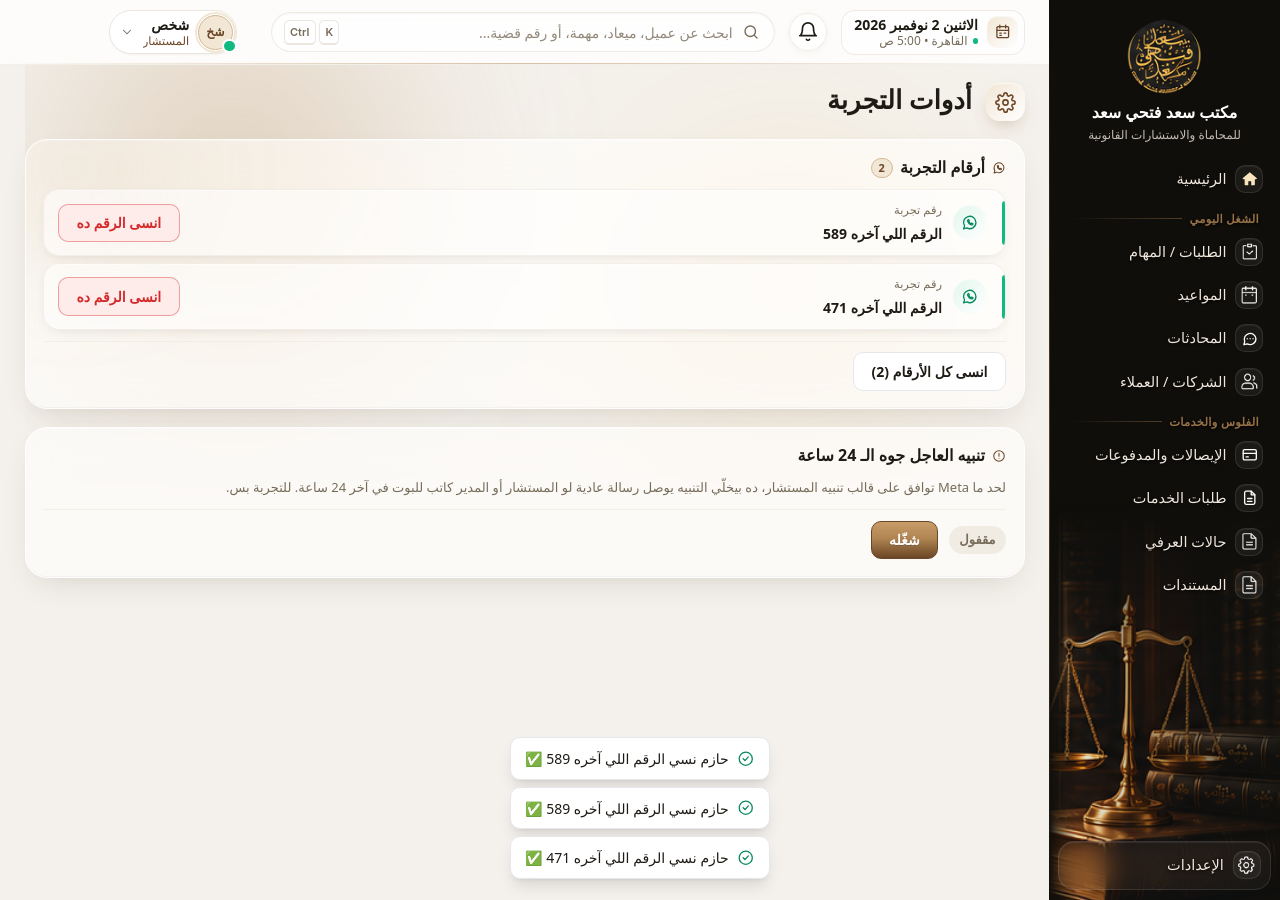
Test: أدوات التجربة › v1.34: the urgent alert inside the 24-hour window is switched on after asking, and says it is for testing
Check: the heading "تنبيه العاجل جوه الـ 24 ساعة" is shown, box x1=798 y1=444 x2=1006 y2=466
Check: the text "مقفول" is shown, box x1=949 y1=526 x2=1006 y2=554
Step 1. Click the button "شغّله" → (904,540), box x1=871 y1=521 x2=938 y2=559
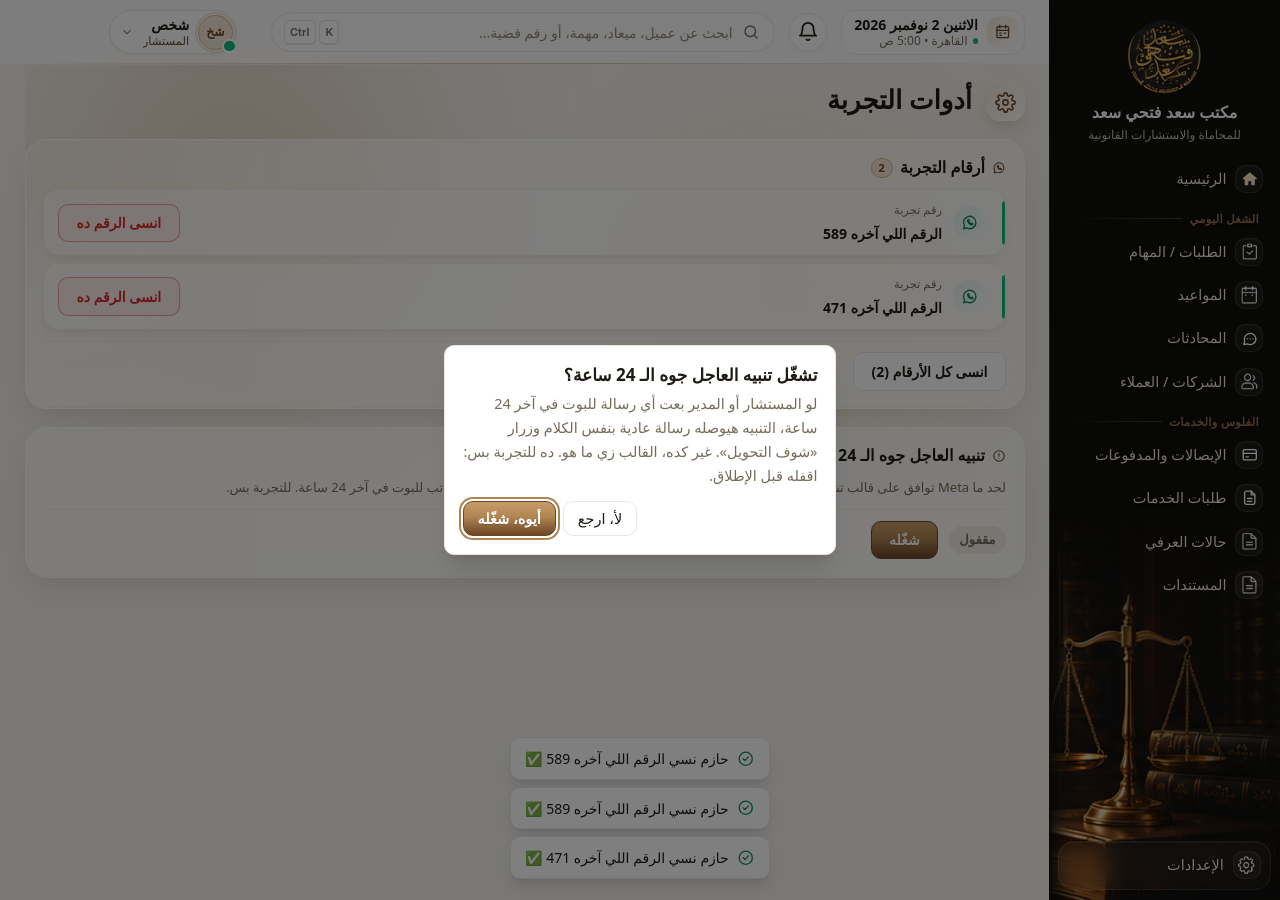
Step 2. Click the button "أيوه، شغّله" → (509,519), box x1=462 y1=501 x2=556 y2=536
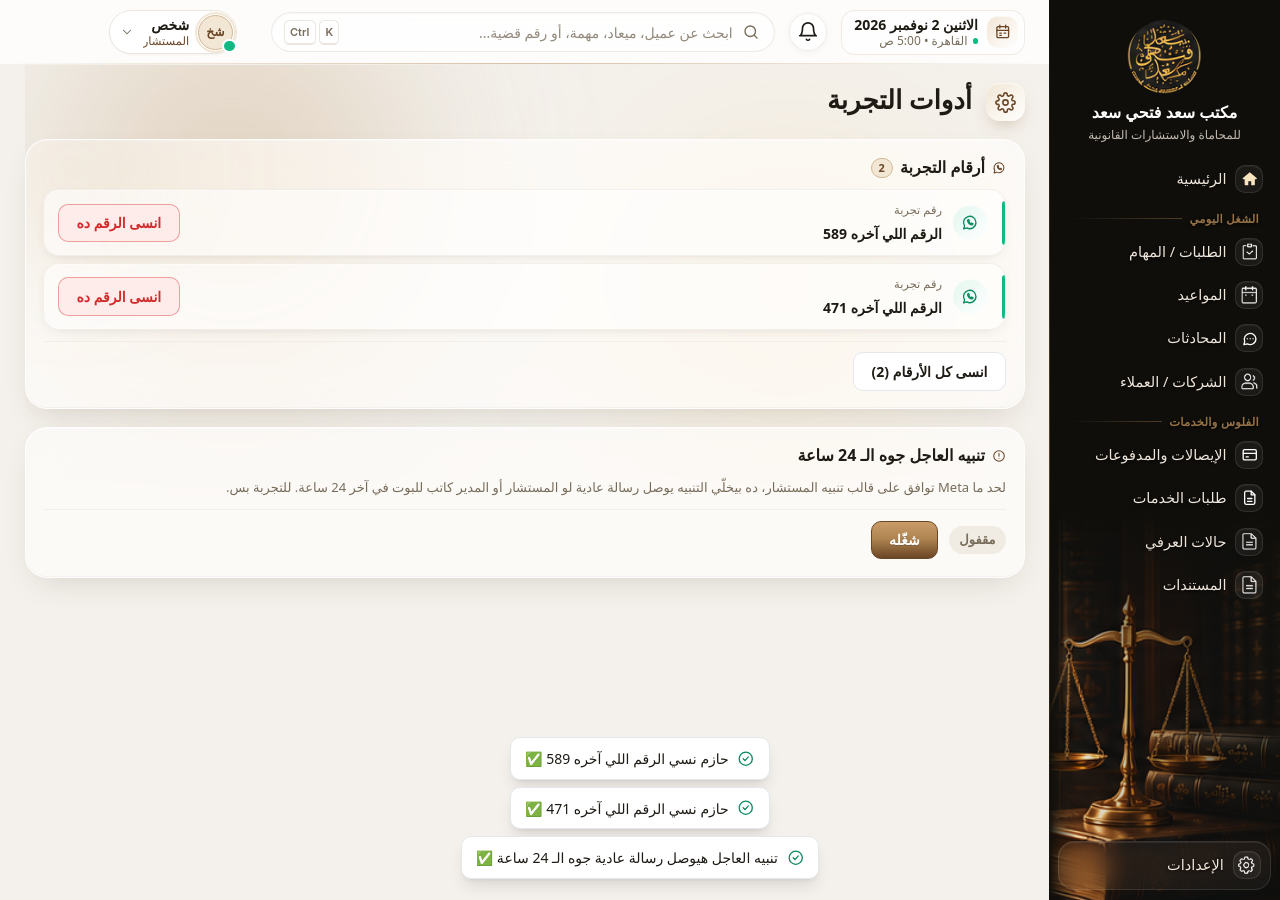
Check: the text "تنبيه العاجل هيوصل رسالة عادية جوه الـ 24 ساعة ✅" is shown, box x1=461 y1=836 x2=819 y2=879
